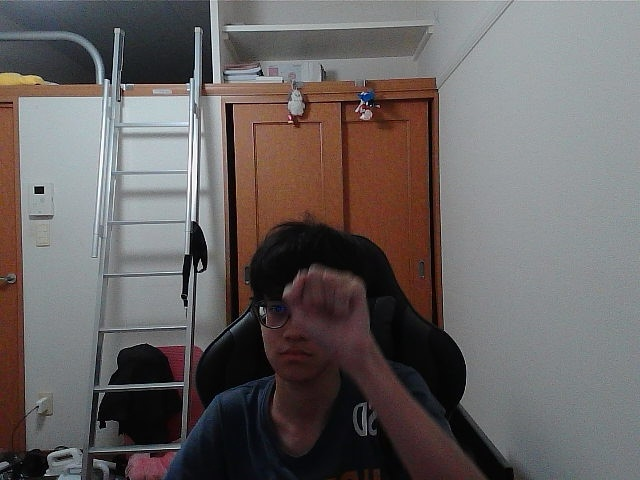closed_palm: (290, 275, 356, 335)
